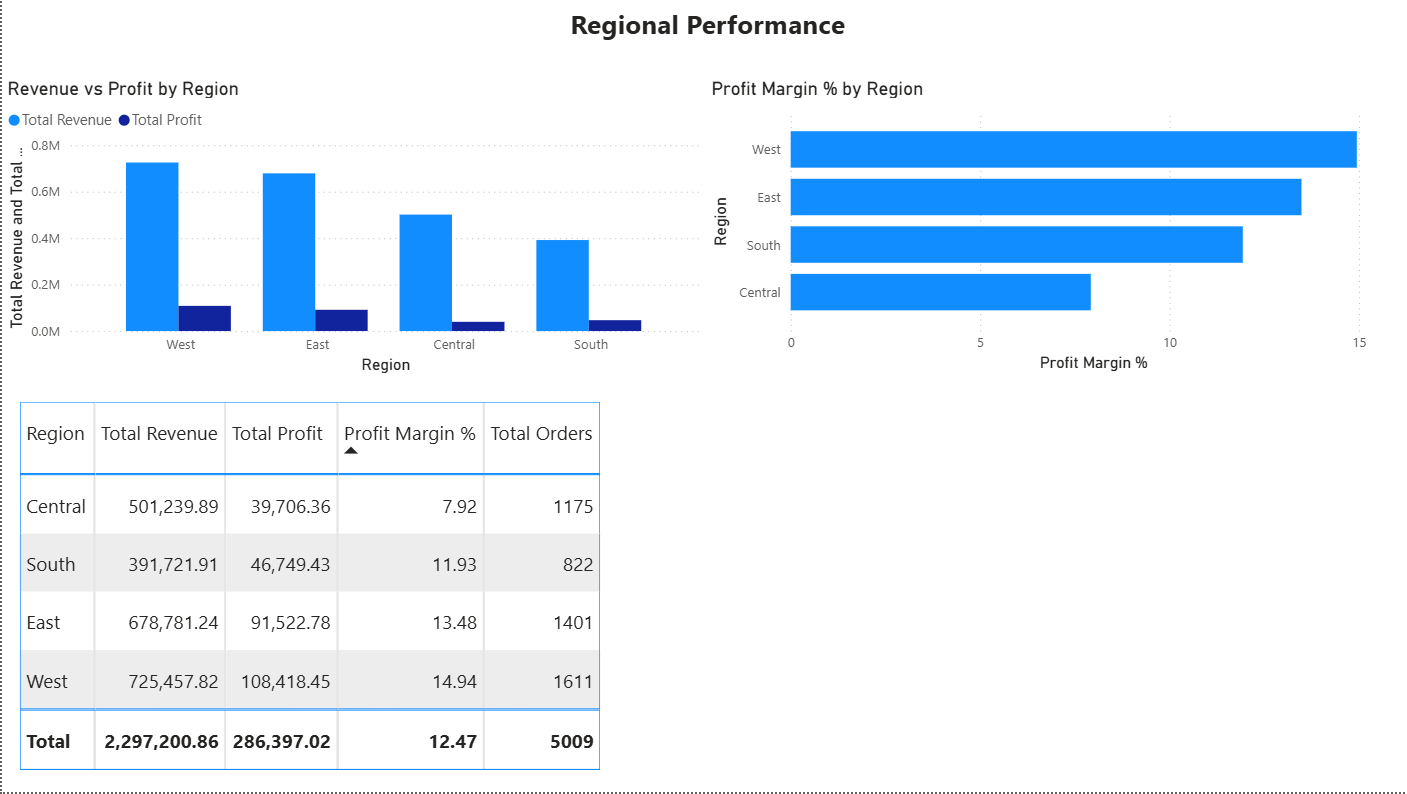

This screenshot's page, from the dashboard's own definition file:
{"tool":"powerbi","page":{"name":"Regional Performance","canvas":[1280,720],"ordinal":2},"visuals":[{"type":"textbox","box":[10,0,1270,44.3],"z":0},{"type":"clusteredColumnChart","title":"Revenue vs Profit by Region","fields":{"Category":["superstore.Region"],"Y":["superstore.Total Revenue","superstore.Total Profit"]},"box":[0,70,640,274.3],"z":1000},{"type":"clusteredBarChart","fields":{"Category":["superstore.Region"],"Y":["superstore.Profit Margin %"]},"box":[640,70,640,272.9],"z":2000},{"type":"tableEx","fields":{"Values":["superstore.Region","superstore.Total Revenue","superstore.Total Profit","superstore.Profit Margin %","superstore.Total Orders"]},"box":[10,360,568.6,345.7],"z":3000}]}

Visuals, with their boxes in screenshot pixels (x1, y1, x2, y2), scaled from the page's 1280x720 canvas onto the 1407x794 screenshot:
textbox: locate(11, 0, 1406, 49)
"Revenue vs Profit by Region" clusteredColumnChart: locate(0, 77, 704, 380)
clusteredBarChart - superstore.Region x superstore.Profit Margin %: locate(704, 77, 1406, 378)
tableEx - superstore.Region x superstore.Total Revenue: locate(11, 397, 636, 778)
